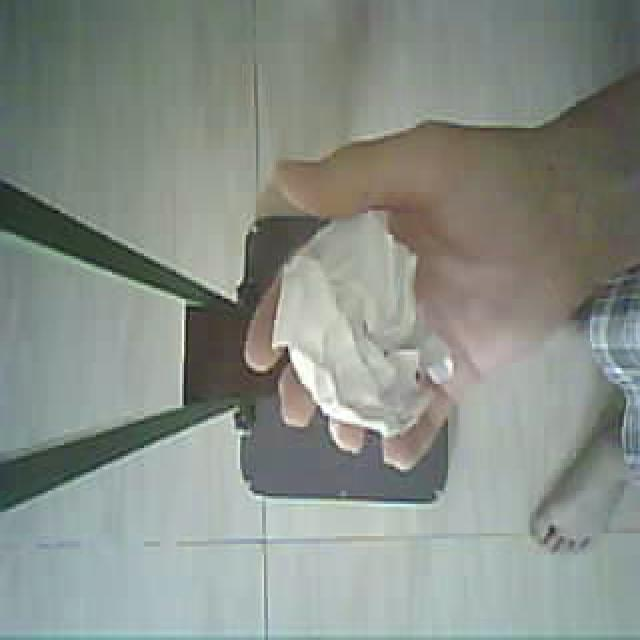Paper: (218, 175, 474, 472)
